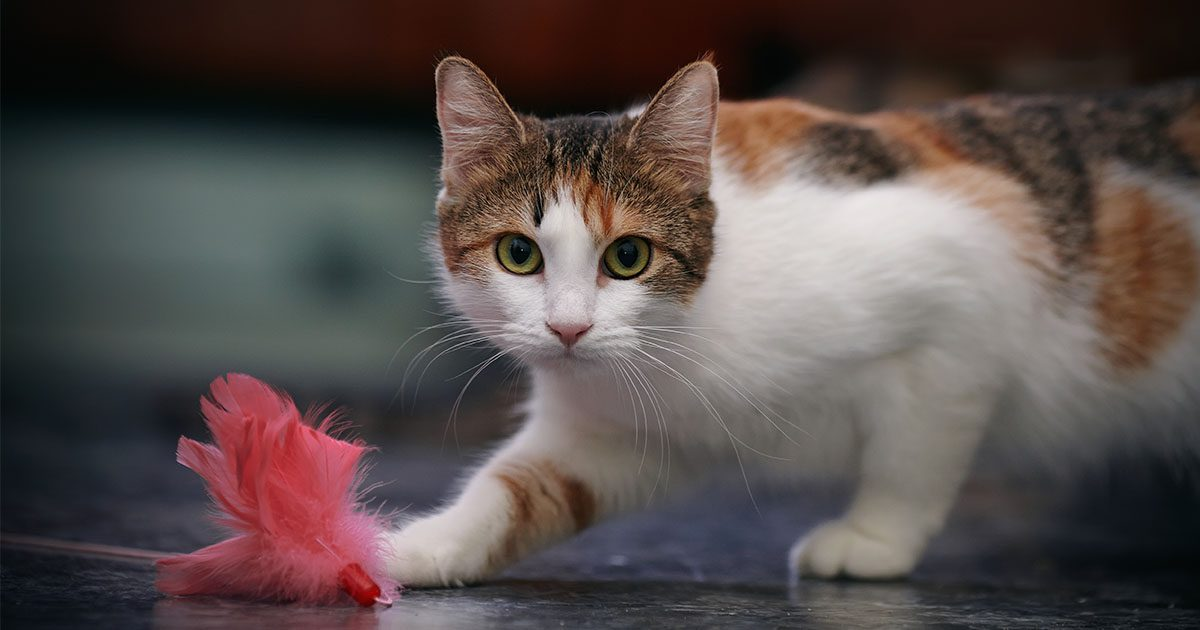Cat: (326, 38, 1200, 583)
